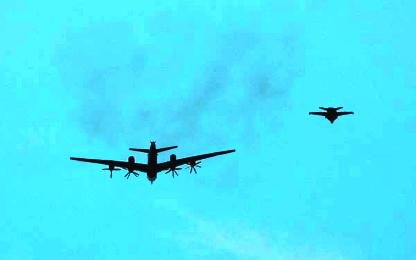F15: (308, 107, 353, 125)
Su57: (69, 140, 235, 186)
